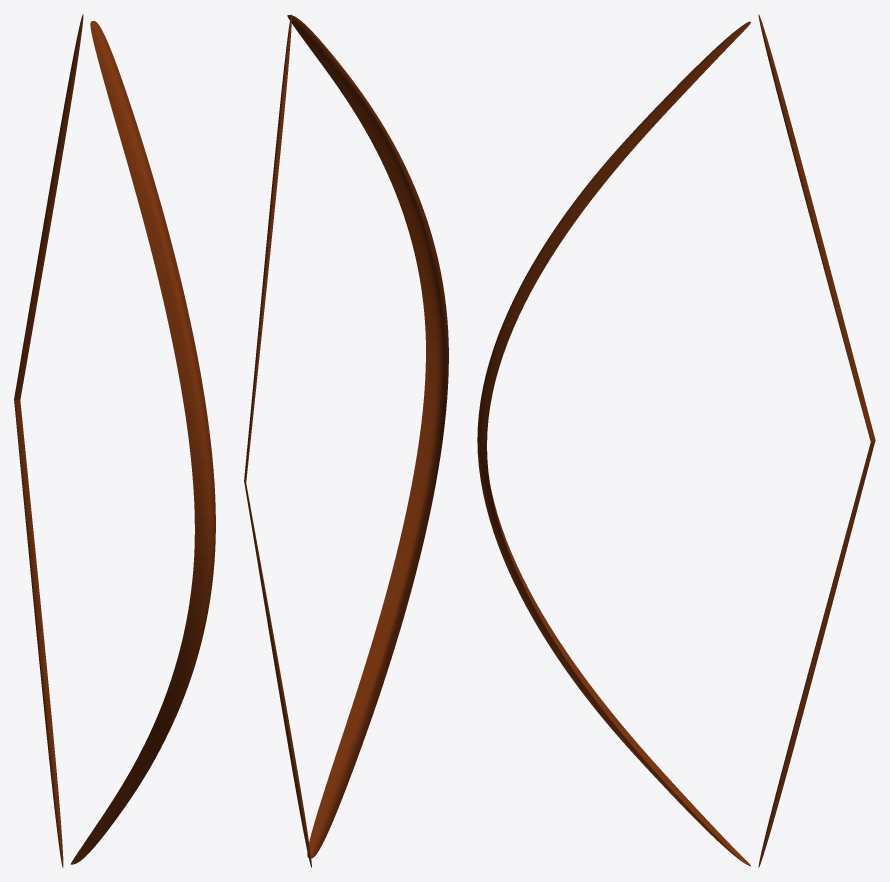
The model's file is bow.fbx.
3 views of the same model, side by side, from view 1: azimuth 30°, elevation 25°; view 2: azimuth 150°, elevation 25°; view 3: azimuth 270°, elevation 25° (orthographic).
Visible parts, largest first — view 1: Cube; view 2: Cube; view 3: Cube.
Part boxes in pixels (x1,y1,x2,y2): Cube: (14,14,215,867); Cube: (244,14,448,867); Cube: (477,14,875,867).
Bounding box in the file's own units: 2.79 × 58.99 × 24.64.
